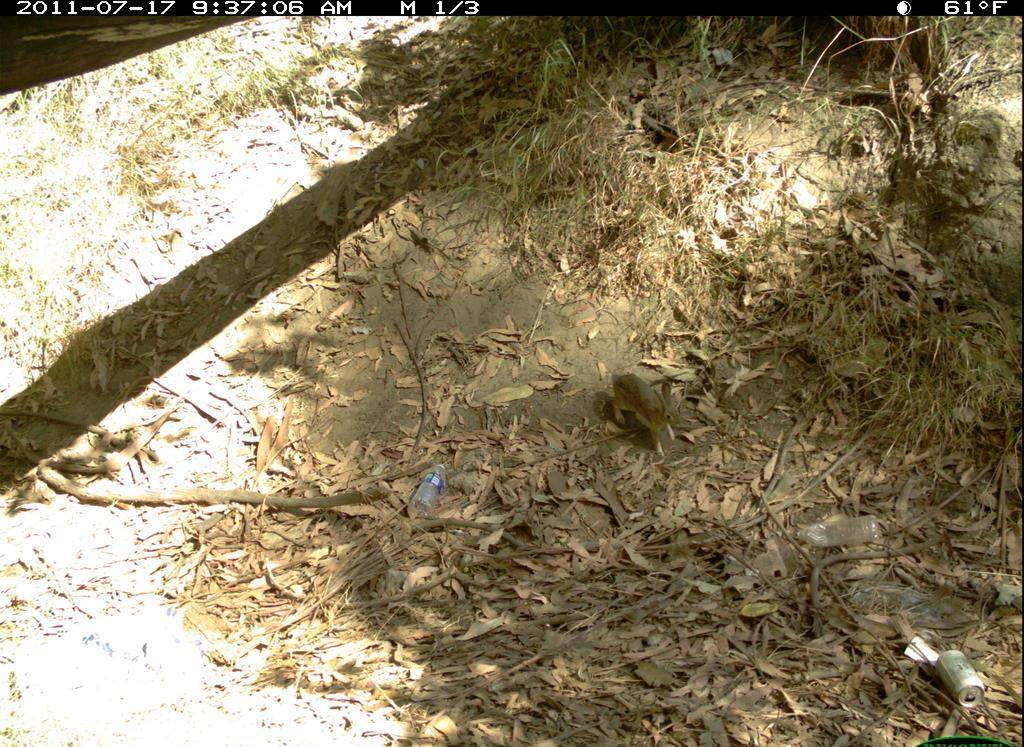rabbit: (592, 349, 706, 497)
